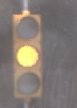Yellow: (12, 10, 50, 103)
